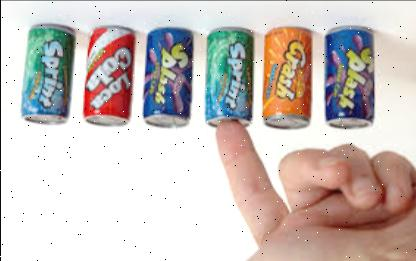Can: (24, 24, 76, 125), (84, 24, 136, 125), (264, 26, 312, 130), (326, 26, 374, 130), (144, 26, 192, 128), (208, 26, 252, 128)
